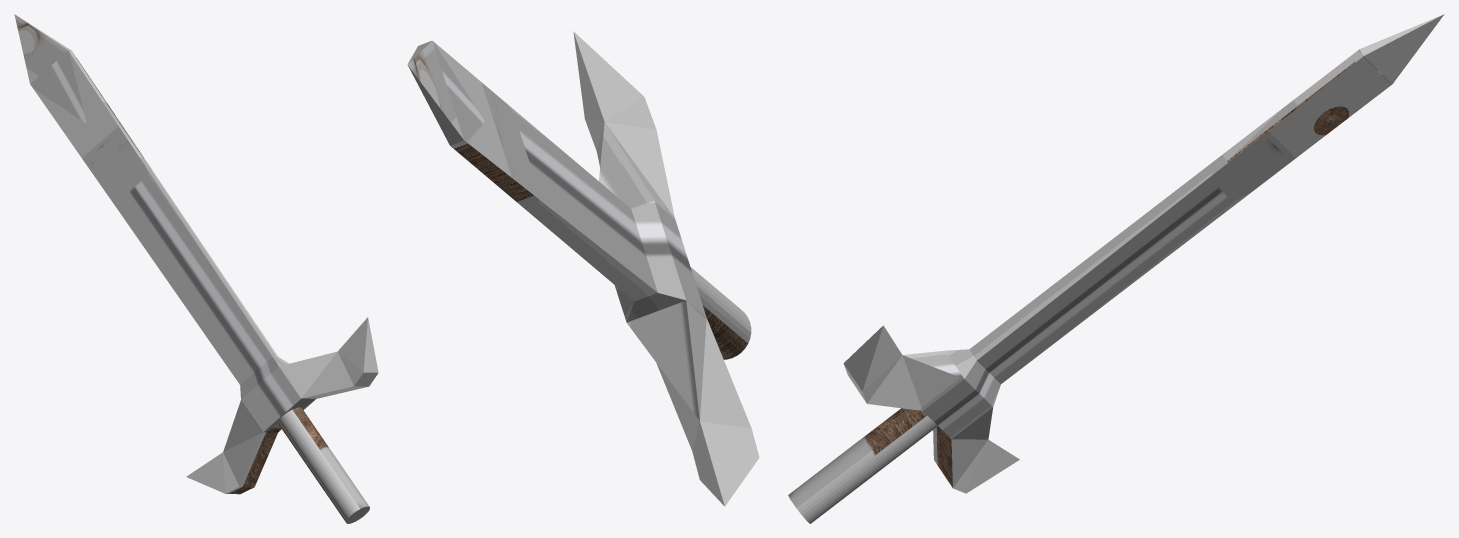
Rendered from Protagonista122.obj.
3 renders of one model, left to right at view 1: azimuth 30°, elevation 25°; view 2: azimuth 150°, elevation 25°; view 3: azimuth 270°, elevation 25°, orthographic. The views are drawn at different scales.
Visible parts, largest first — view 1: Cube; view 2: Cube; view 3: Cube.
Boxes of the visible parts, <box> form: Cube: <box>14,14,378,523</box>; Cube: <box>407,31,759,506</box>; Cube: <box>788,14,1444,523</box>.
Size of the model in its own units: 0.4576 by 1.07 by 1.4.
1 material, 1 textured.
